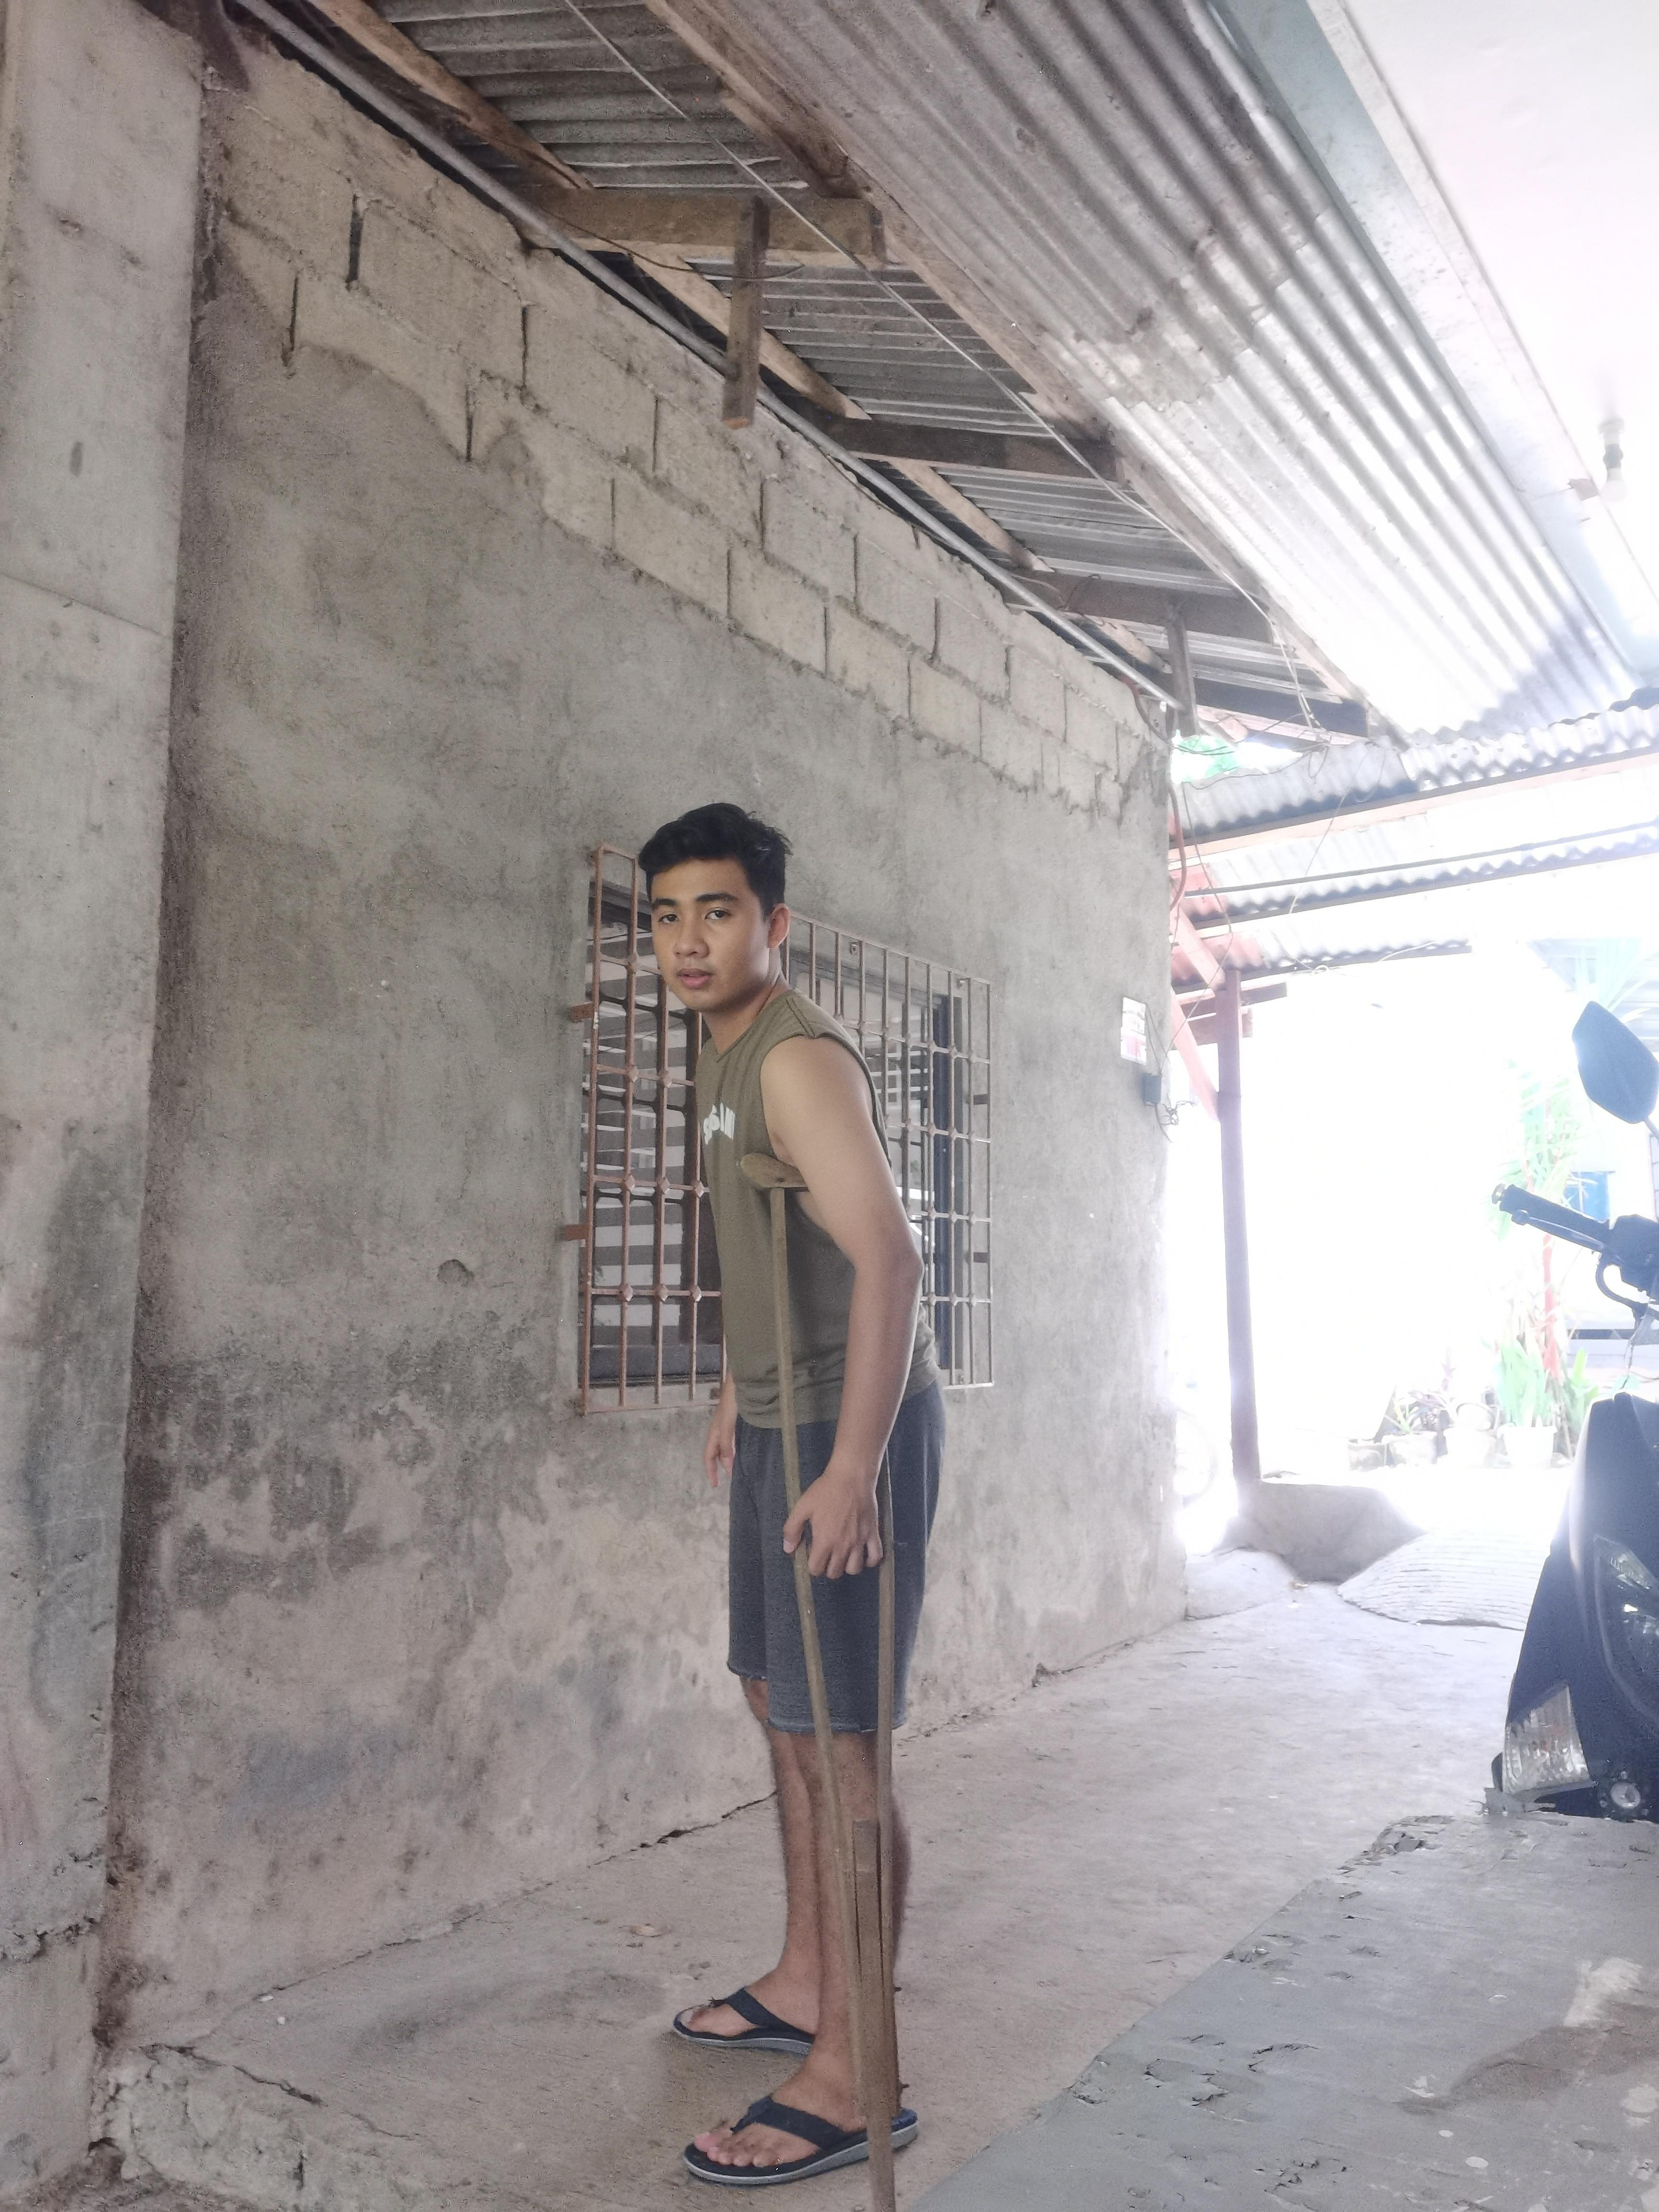crutches: (626, 779, 960, 2212)
